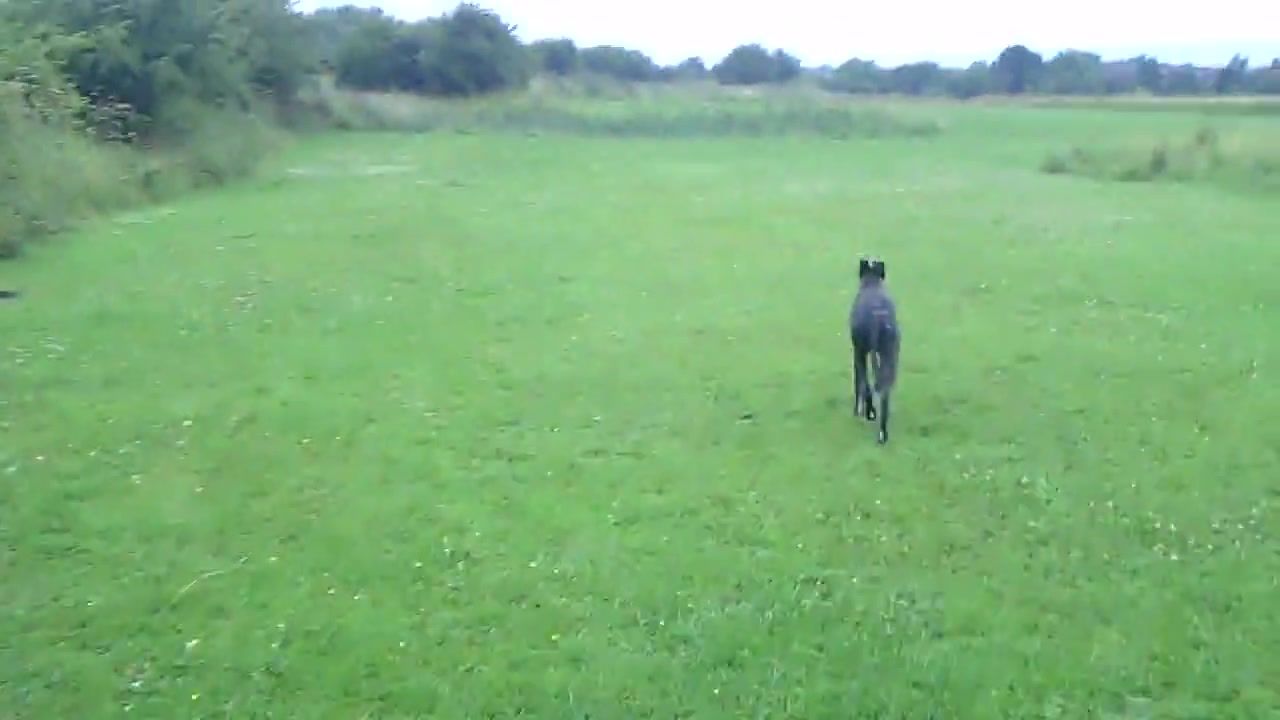dog: (850, 254, 905, 446)
